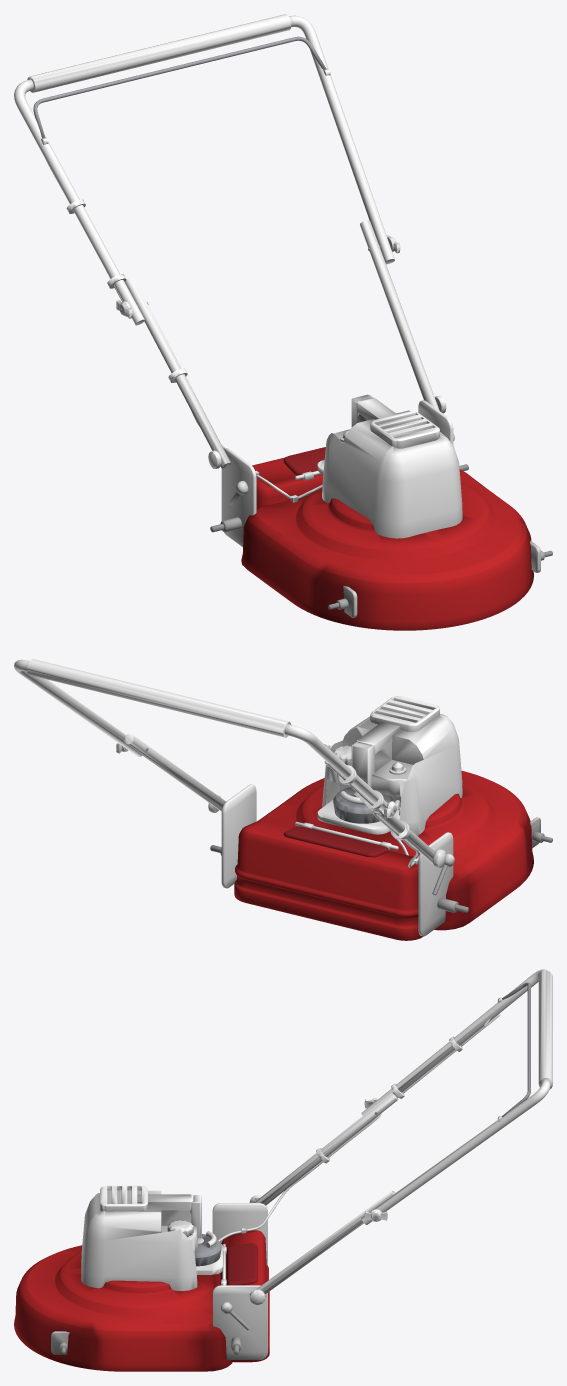
The model's file is mower.fbx.
3 views of the same model, one above another, from view 1: azimuth 30°, elevation 25°; view 2: azimuth 150°, elevation 25°; view 3: azimuth 270°, elevation 25° (orthographic). The views are drawn at different scales.
Visible parts, largest first — view 1: Housing, Handle, Motor; view 2: Housing, Motor, Handle; view 3: Housing, Motor, Handle.
Boxes of the visible parts, left/top/right/bottom form: Housing: left=210, top=400, right=552, bottom=630; Handle: left=14, top=14, right=446, bottom=502; Motor: left=317, top=394, right=462, bottom=538; Housing: left=210, top=770, right=552, bottom=940; Motor: left=317, top=696, right=462, bottom=835; Handle: left=14, top=659, right=446, bottom=867; Housing: left=14, top=1203, right=269, bottom=1371; Motor: left=81, top=1185, right=222, bottom=1290; Handle: left=218, top=969, right=552, bottom=1304.
Size of the model in its own units: 0.7677 by 0.8632 by 1.4.
